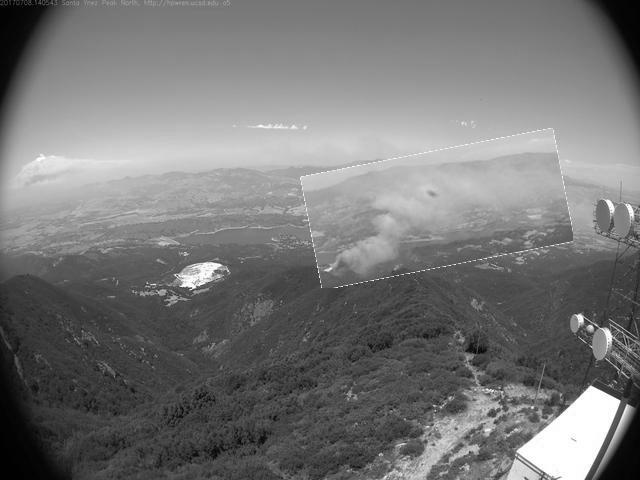smoke: (306, 141, 571, 279)
